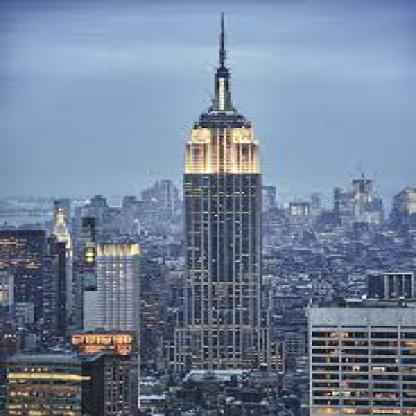Empire-State-building: (162, 0, 273, 371)
